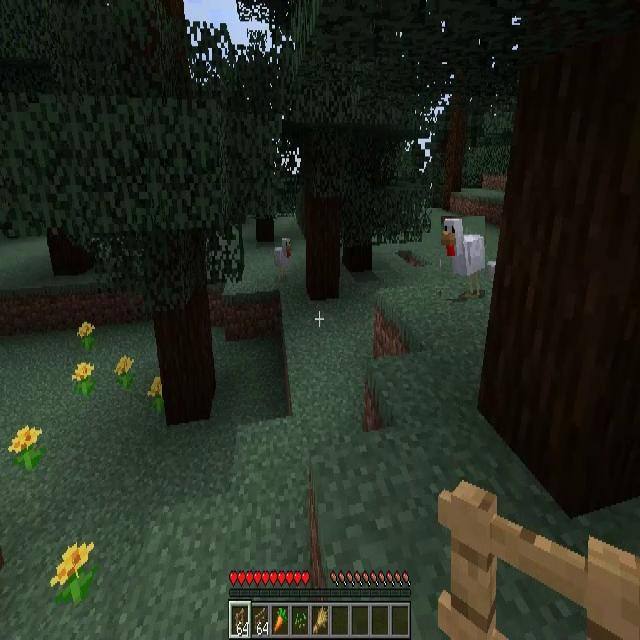duck: (441, 216, 485, 299), (273, 236, 295, 281)
